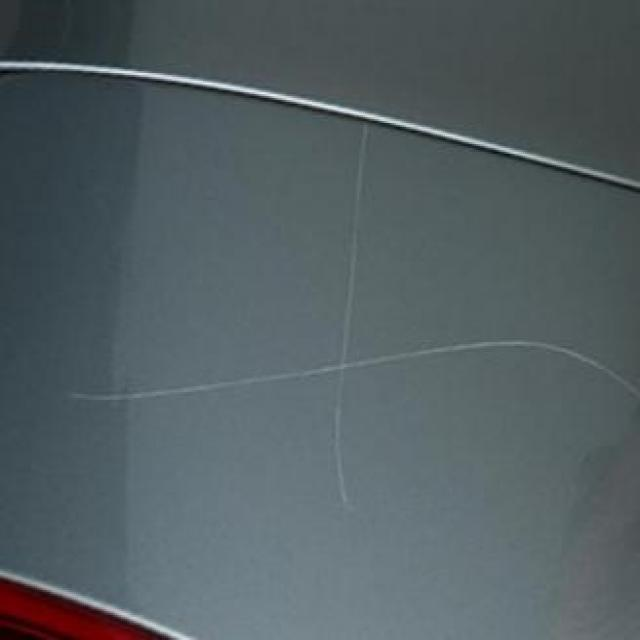scratch: (56, 324, 636, 426), (305, 129, 395, 517)
